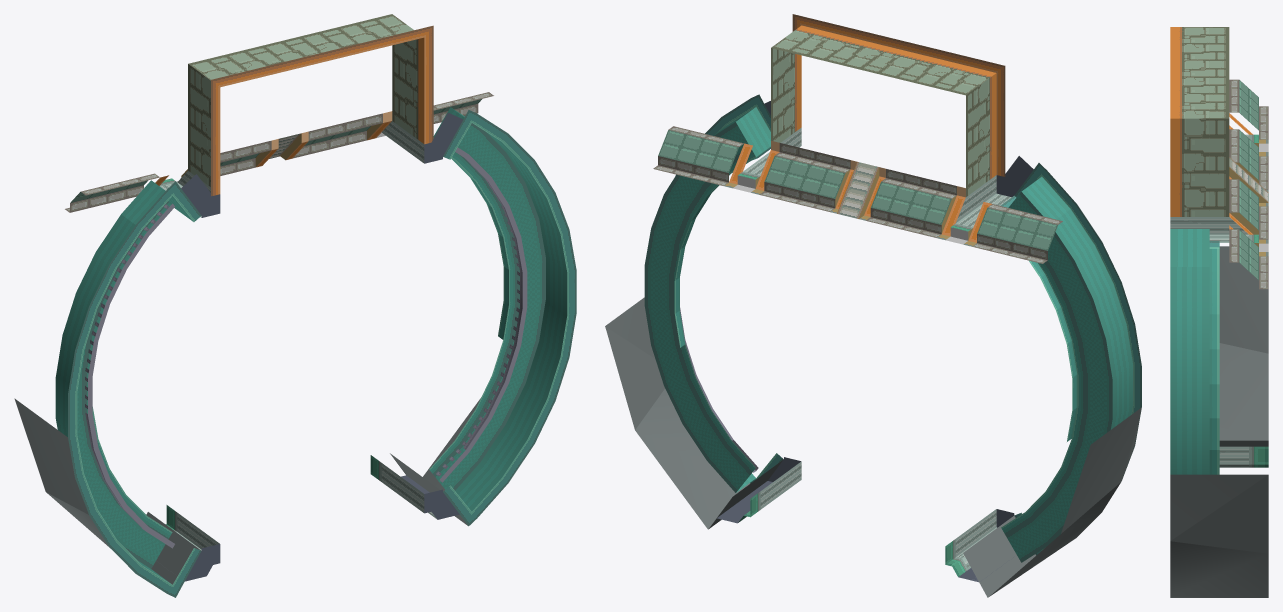
The model's file is ROCKGYM14.obj.
The picture shows the model from 3 angles, left to right: view 1: azimuth 30°, elevation 25°; view 2: azimuth 150°, elevation 25°; view 3: azimuth 270°, elevation 25°; orthographic projection. The views are drawn at different scales.
Parts seen in each view (by area): view 1: ROCKGYM; view 2: ROCKGYM; view 3: ROCKGYM.
Part boxes in pixels (x1,y1,x2,y2): ROCKGYM: [14, 14, 576, 597]; ROCKGYM: [605, 14, 1141, 597]; ROCKGYM: [1170, 27, 1268, 597].
Bounding box in the file's own units: 438 × 420 × 80.
